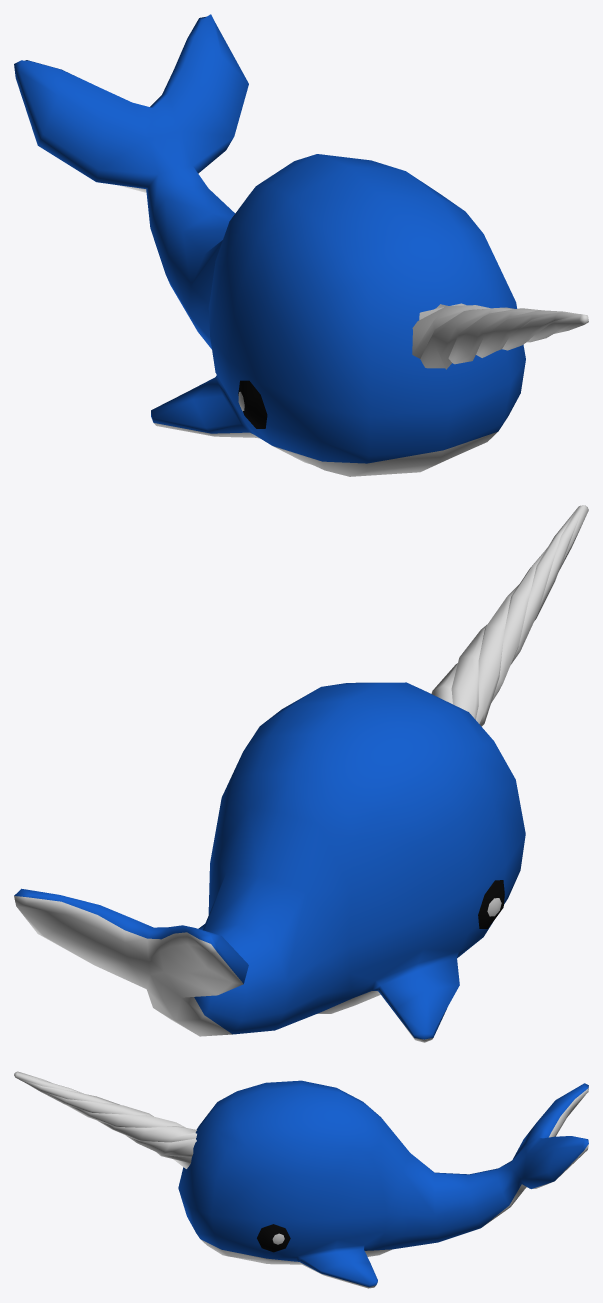
The model's file is whale_01.FBX.
The picture shows the model from 3 angles, top to bottom: view 1: azimuth 30°, elevation 25°; view 2: azimuth 150°, elevation 25°; view 3: azimuth 270°, elevation 25°; orthographic projection. The views are drawn at different scales.
Parts seen in each view (by area): view 1: whale_01, whale_01_horn; view 2: whale_01, whale_01_horn; view 3: whale_01, whale_01_horn.
Boxes of the visible parts, left/top/right/bottom form: whale_01: left=14, top=14, right=525, bottom=476; whale_01_horn: left=412, top=303, right=588, bottom=369; whale_01: left=14, top=682, right=525, bottom=1042; whale_01_horn: left=431, top=505, right=588, bottom=726; whale_01: left=178, top=1080, right=588, bottom=1288; whale_01_horn: left=14, top=1071, right=196, bottom=1168.
Bounding box in the file's own units: 1212 × 1214 × 3547.
